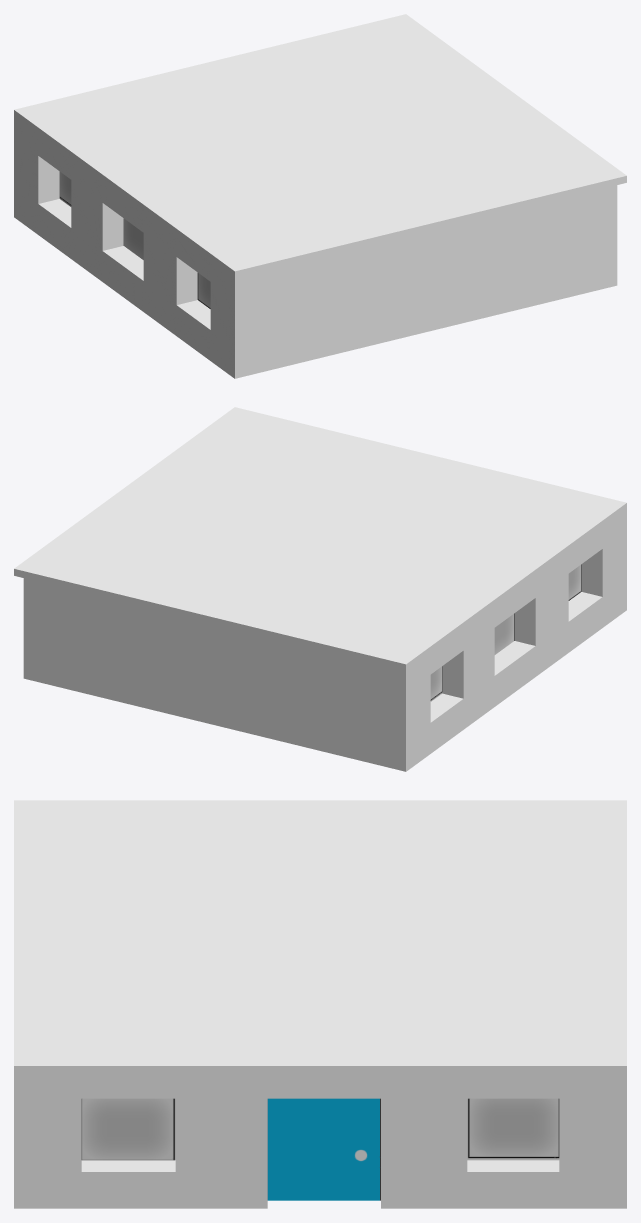
The model's file is building bottom.fbx.
3 views of the same model, one above another, from view 1: azimuth 30°, elevation 25°; view 2: azimuth 150°, elevation 25°; view 3: azimuth 270°, elevation 25° (orthographic). The views are drawn at different scales.
Visible parts, largest first — view 1: Cube; view 2: Cube; view 3: Cube.
Part boxes in pixels (bbox=[...]): Cube: bbox=[14, 14, 626, 378]; Cube: bbox=[14, 407, 626, 771]; Cube: bbox=[14, 800, 626, 1208].
Size of the model in its own units: 2.05 by 0.537 by 2.
